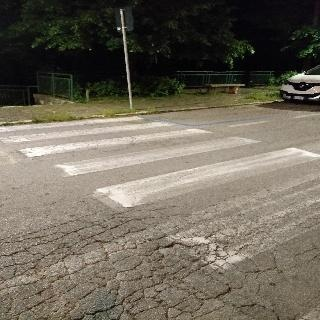road_crosswalk: (7, 104, 317, 293)
